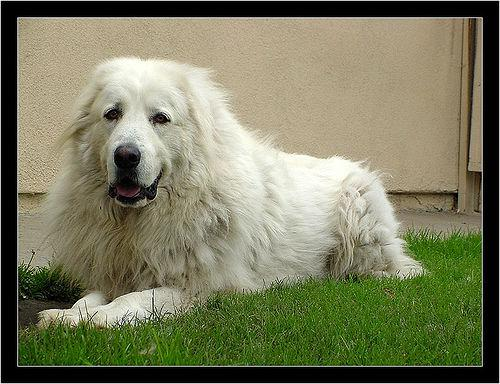dog: (68, 57, 210, 206)
